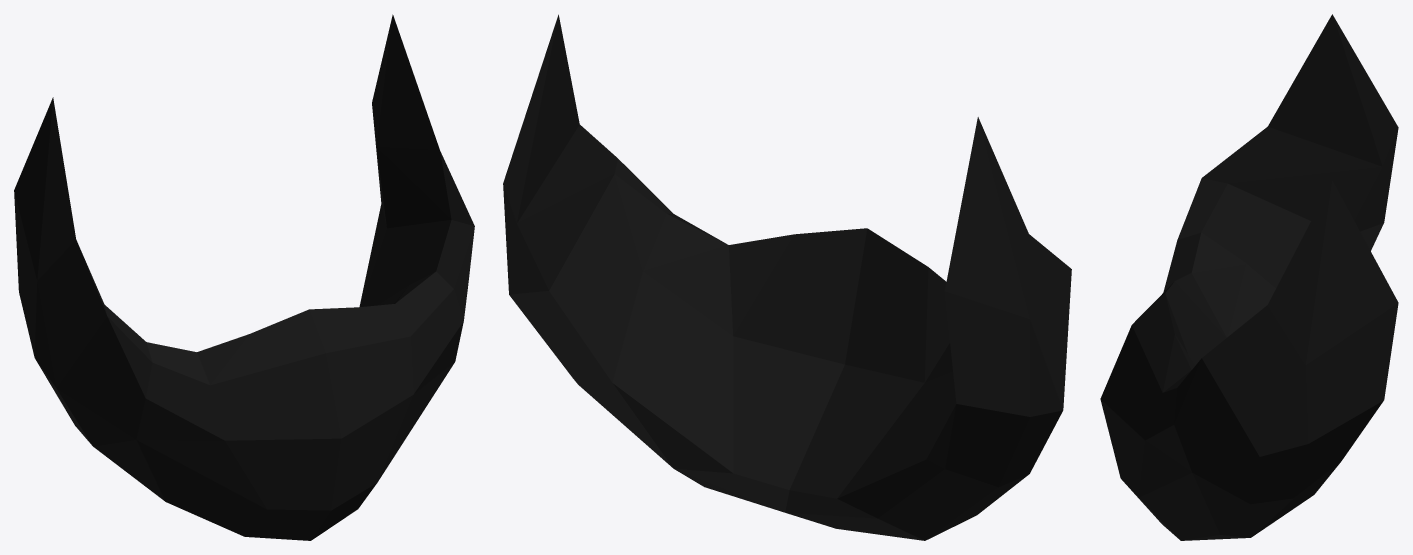
File: Farmer_M_Beard.fbx
3 renders of one model, left to right at view 1: azimuth 30°, elevation 25°; view 2: azimuth 150°, elevation 25°; view 3: azimuth 270°, elevation 25°, orthographic. The views are drawn at different scales.
Visible parts, largest first — view 1: Farmer_M_Beard; view 2: Farmer_M_Beard; view 3: Farmer_M_Beard.
Boxes of the visible parts, <box> form: Farmer_M_Beard: <box>14,14,474,540</box>; Farmer_M_Beard: <box>503,14,1071,540</box>; Farmer_M_Beard: <box>1100,14,1398,540</box>.
Size of the model in its own units: 19.31 by 19.01 by 12.07.
